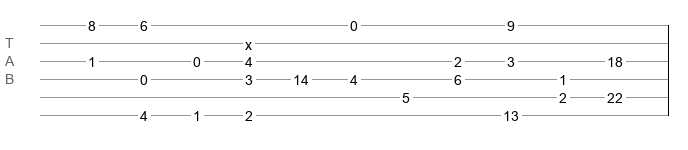0: (140, 72, 148, 82), (193, 54, 201, 64), (350, 18, 358, 28)
1: (88, 54, 96, 64), (193, 108, 201, 118), (559, 72, 567, 82)
13: (503, 108, 519, 118)
14: (293, 72, 309, 82)
18: (607, 54, 623, 64)
2: (245, 108, 253, 118), (454, 54, 462, 64), (559, 90, 567, 100)
22: (607, 90, 623, 100)
3: (245, 72, 253, 82), (507, 54, 515, 64)
4: (140, 108, 148, 118), (245, 54, 253, 64), (350, 72, 358, 82)
5: (402, 90, 410, 100)
6: (140, 18, 148, 28), (454, 72, 462, 82)
8: (88, 18, 96, 28)
9: (507, 18, 515, 28)
x: (245, 37, 252, 45)
